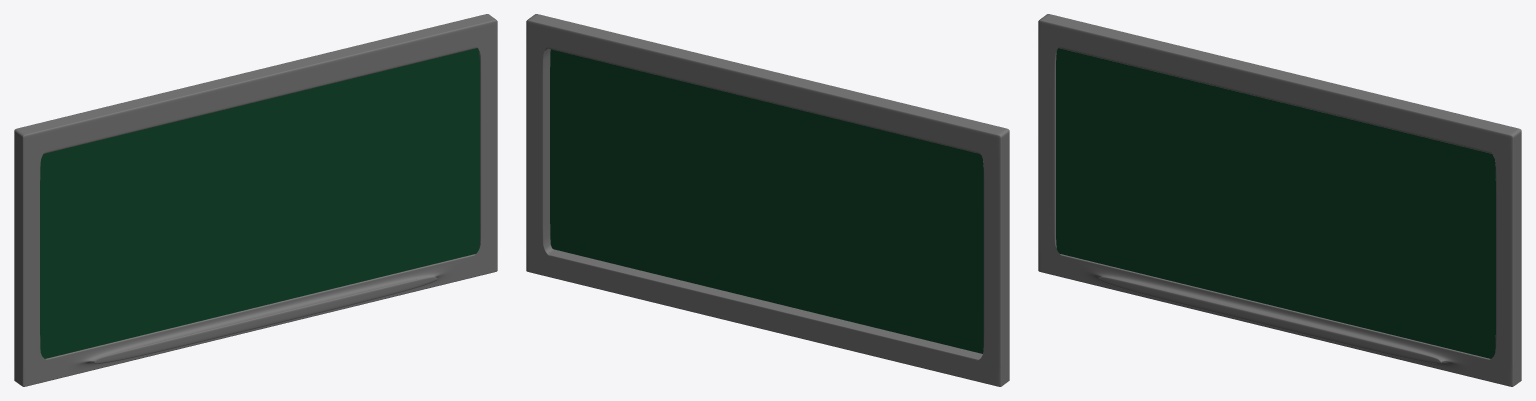
Rendered from Board.fbx.
The picture shows the model from 3 angles, left to right: view 1: azimuth 30°, elevation 25°; view 2: azimuth 150°, elevation 25°; view 3: azimuth 330°, elevation 25°; orthographic projection.
Parts seen in each view (by area): view 1: Board; view 2: Board; view 3: Board.
Boxes of the visible parts, <box> form: Board: <box>14,14,497,386</box>; Board: <box>526,14,1009,386</box>; Board: <box>1038,14,1521,386</box>.
Bounding box in the file's own units: 715 × 362 × 40.2.
